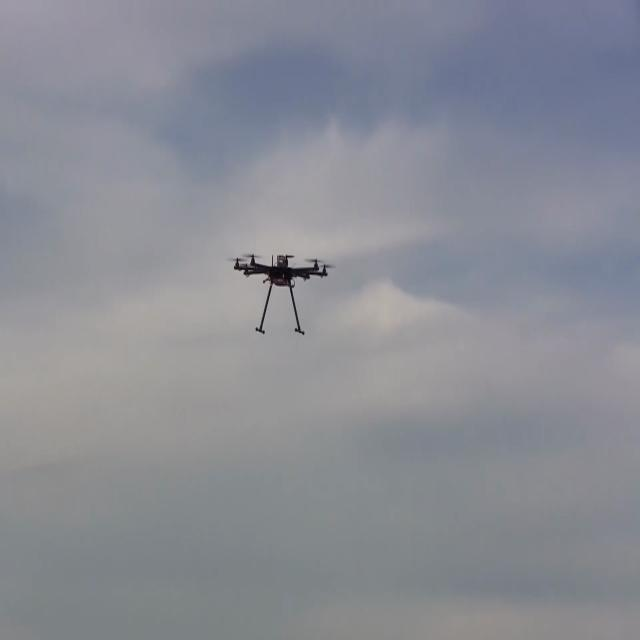drone: (235, 206, 331, 350)
